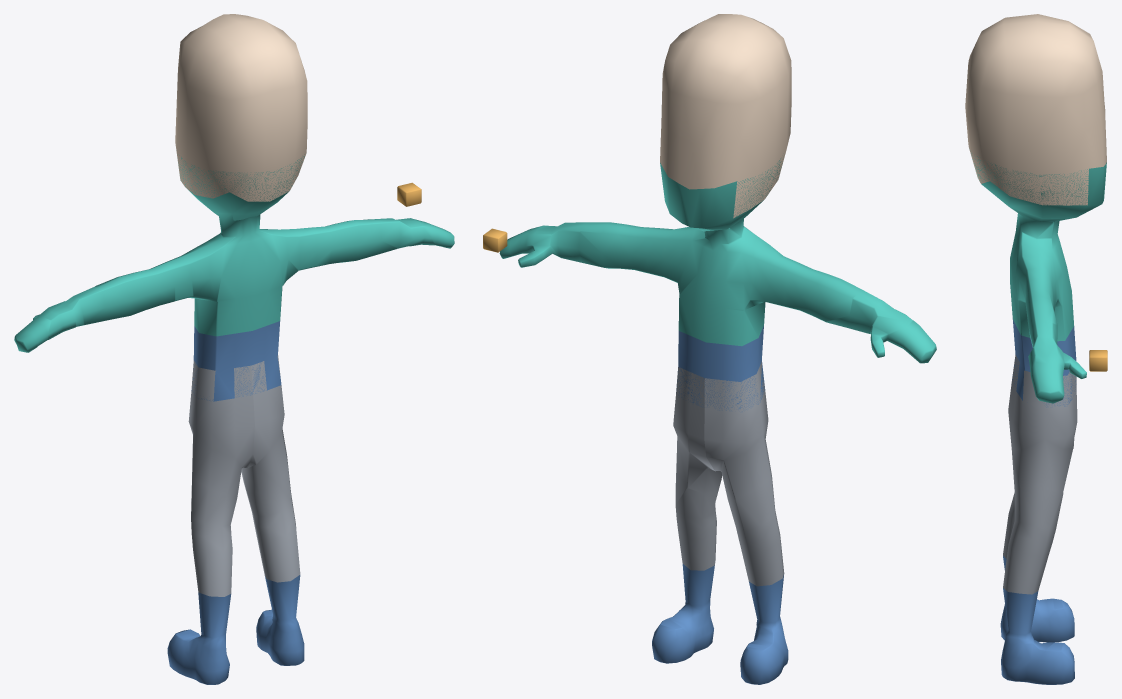
File: staff-founder-idle-tpose-c17bca1a.glb
3 renders of one model, left to right at view 1: azimuth 30°, elevation 25°; view 2: azimuth 150°, elevation 25°; view 3: azimuth 270°, elevation 25°, orthographic.
Visible parts, largest first — view 1: Torso, Head, Leg_-1, Leg_1, Hips, Foot_-1, Foot_1, Neck; view 2: Torso, Head, Leg_-1, Leg_1, Hips, Foot_1, Neck, Foot_-1; view 3: Head, Leg_1, Torso, Foot_1, Neck, Foot_-1, Hips, FounderMug, Leg_-1.
Part boxes in pixels (x1=…): Torso: x1=14, y1=212, x2=454, y2=352; Head: x1=175, y1=14, x2=307, y2=201; Leg_-1: x1=188, y1=360, x2=254, y2=596; Leg_1: x1=241, y1=355, x2=300, y2=582; Hips: x1=191, y1=321, x2=281, y2=401; Foot_-1: x1=167, y1=592, x2=231, y2=684; Foot_1: x1=256, y1=575, x2=304, y2=665; Neck: x1=178, y1=154, x2=304, y2=220; Torso: x1=499, y1=218, x2=936, y2=363; Head: x1=660, y1=14, x2=791, y2=218; Leg_-1: x1=704, y1=361, x2=784, y2=586; Leg_1: x1=673, y1=367, x2=722, y2=570; Hips: x1=676, y1=326, x2=765, y2=411; Foot_1: x1=652, y1=564, x2=714, y2=663; Neck: x1=660, y1=158, x2=782, y2=230; Foot_-1: x1=740, y1=575, x2=788, y2=684; Head: x1=965, y1=14, x2=1106, y2=205; Leg_1: x1=1003, y1=355, x2=1077, y2=594; Torso: x1=1009, y1=207, x2=1086, y2=403; Foot_1: x1=1001, y1=588, x2=1074, y2=684; Neck: x1=971, y1=153, x2=1106, y2=218; Foot_-1: x1=1000, y1=556, x2=1074, y2=642; Hips: x1=1012, y1=319, x2=1076, y2=407; FounderMug: x1=1089, y1=350, x2=1107, y2=371; Leg_-1: x1=1003, y1=493, x2=1014, y2=558.
Size of the model in its own units: 1.22 by 1.72 by 0.3497.
